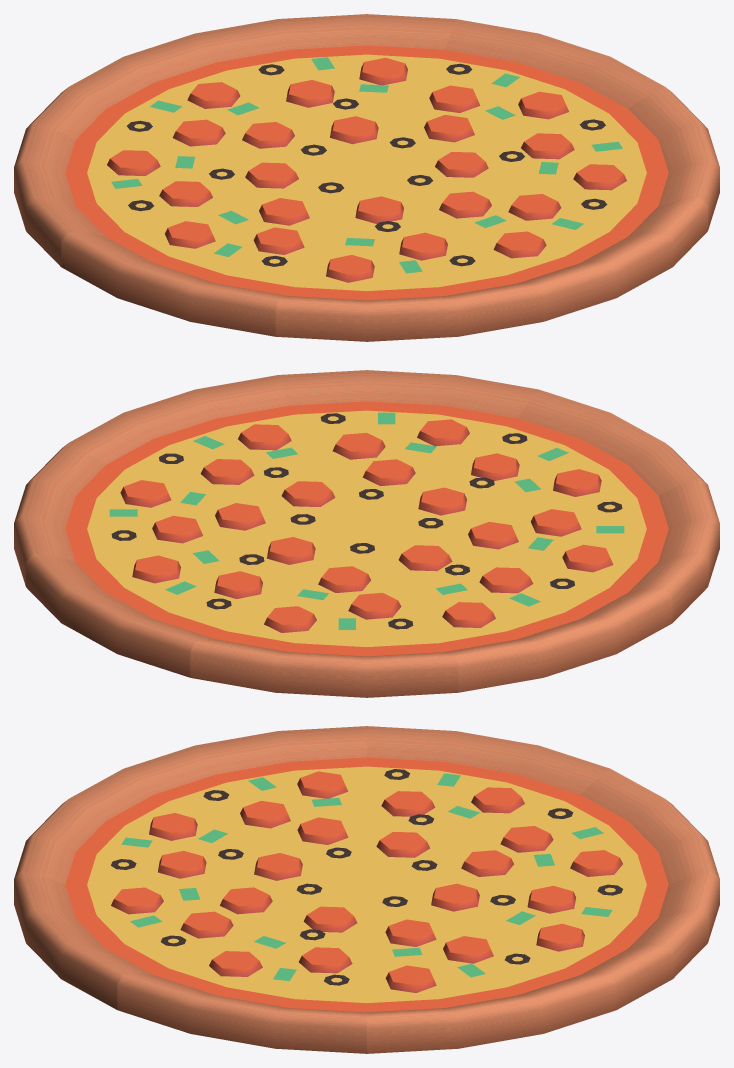
Rendered from kf_pizza.glb.
3 renders of one model, top to bottom at view 1: azimuth 30°, elevation 25°; view 2: azimuth 150°, elevation 25°; view 3: azimuth 270°, elevation 25°, orthographic.
Parts seen in each view (by area): view 1: slice6; view 2: slice6; view 3: slice6.
Part boxes in pixels (<box>): slice6: <box>14,14,719,341</box>; slice6: <box>14,370,719,697</box>; slice6: <box>14,726,719,1053</box>.
Bounding box in the file's own units: 0.2454 × 0.0127 × 0.2454.
Materials: 1 (1 with a texture image).
